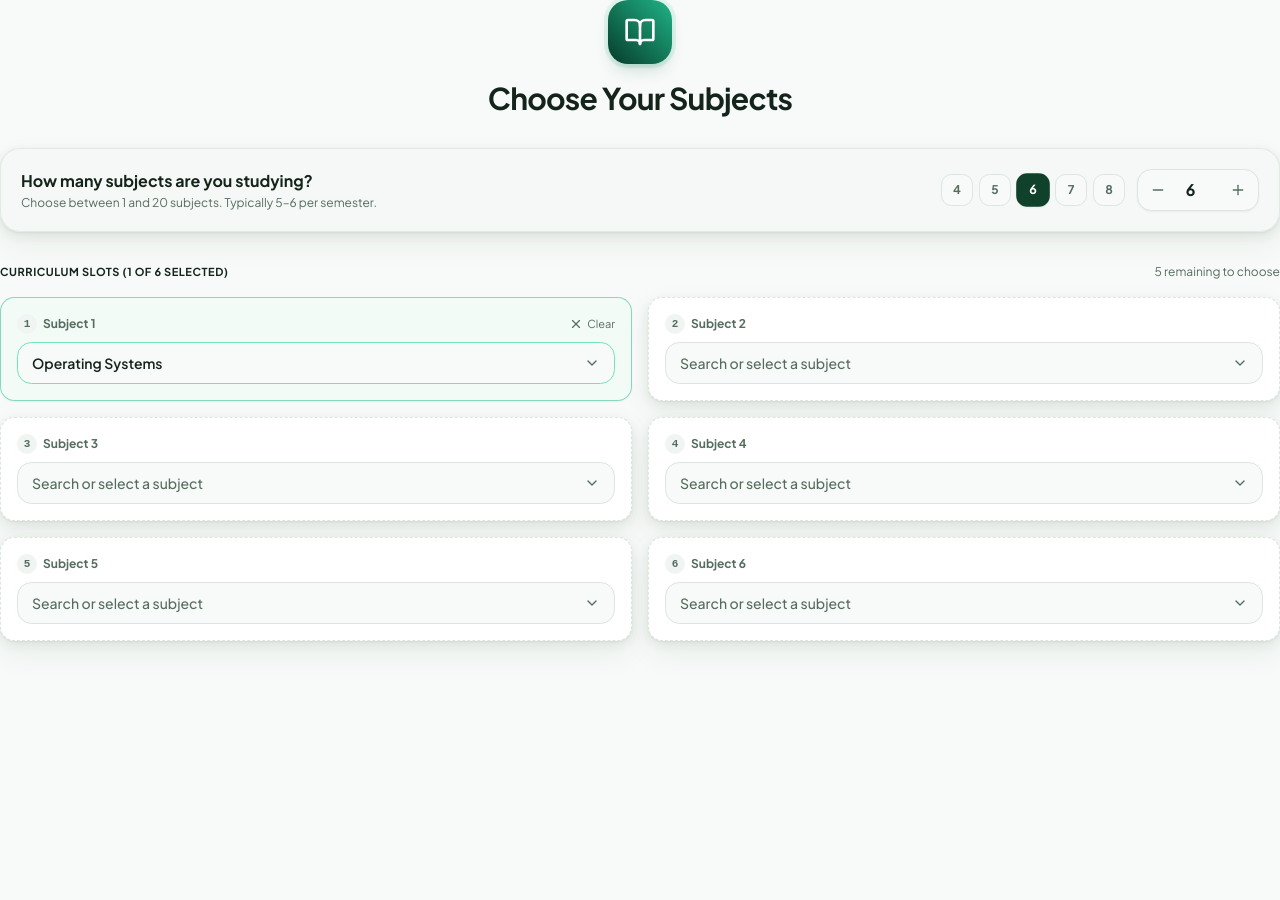
ChooseSubjectsStep and Contextual Subject System › prevents selecting the same subject twice (deduplication)
The image size is (1280, 900).
// Open dropdown for Subject 2
Click the 1st button "Search or select a subject": x=766, y=362 [665,342,1263,384]
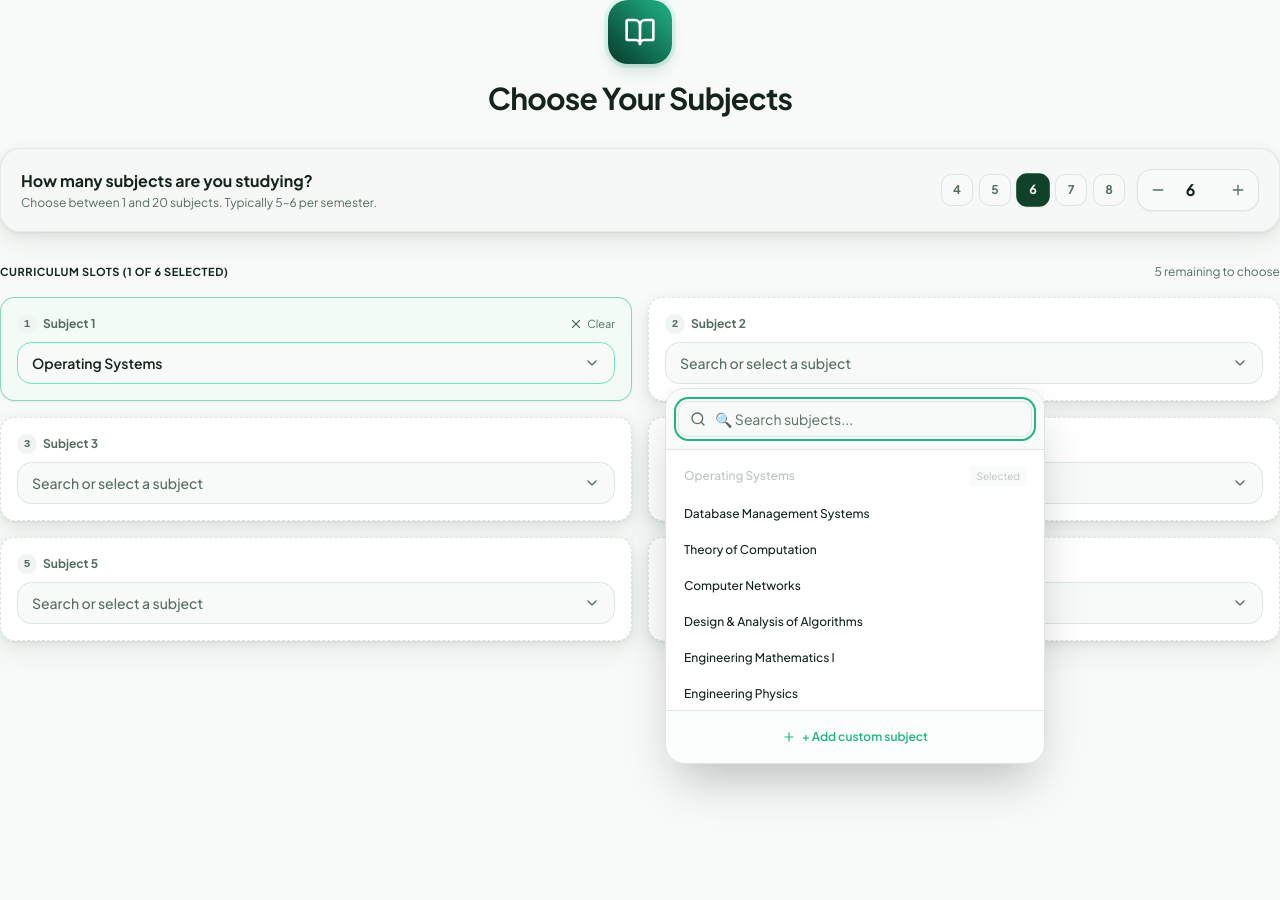
Now the button "Operating Systems Selected" is shown, box [674,458,1036,494]
